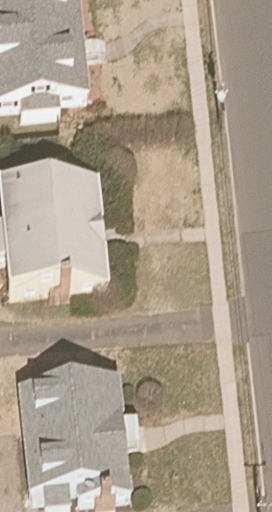DT: (213, 80, 230, 134)
